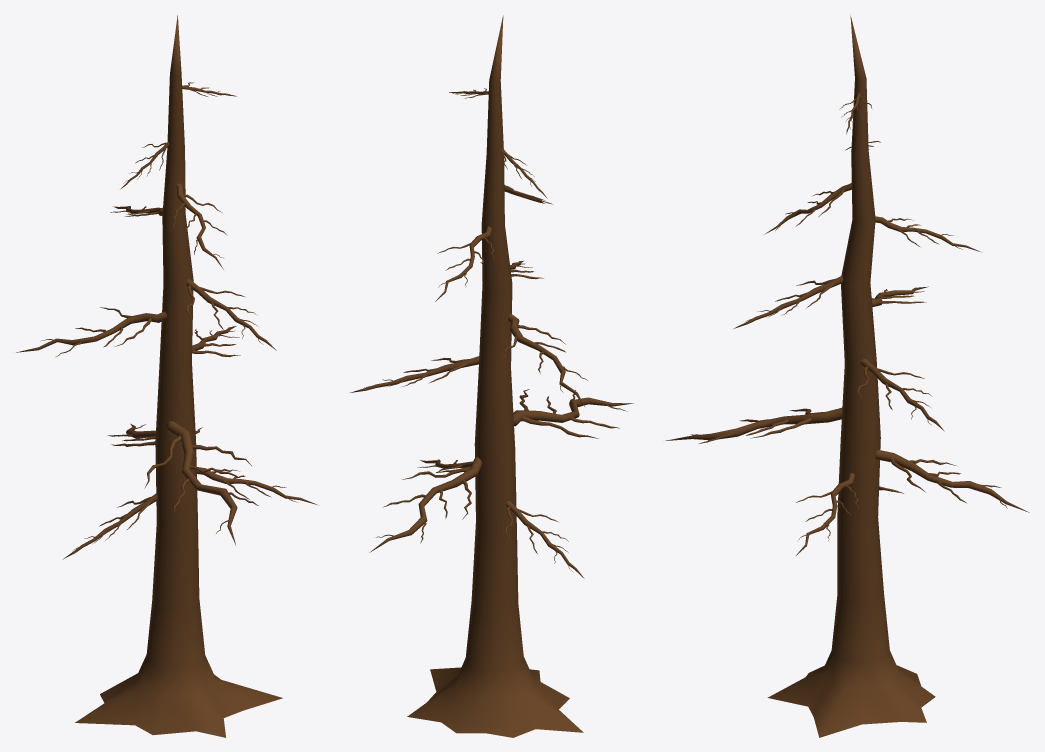
File: Sm_PineTree4L.fbx
The picture shows the model from 3 angles, left to right: view 1: azimuth 30°, elevation 25°; view 2: azimuth 150°, elevation 25°; view 3: azimuth 270°, elevation 25°; orthographic projection.
Parts seen in each view (by area): view 1: Sm_PineTree4L; view 2: Sm_PineTree4L; view 3: Sm_PineTree4L.
Part boxes in pixels (<box>): Sm_PineTree4L: <box>16,15,318,737</box>; Sm_PineTree4L: <box>350,15,633,737</box>; Sm_PineTree4L: <box>665,14,1029,737</box>.
Bounding box in the file's own units: 267 × 748 × 366.
